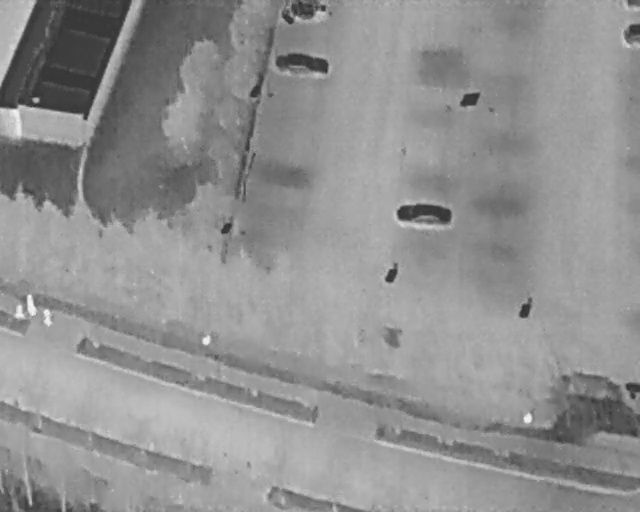Car: (552, 373, 635, 417), (275, 54, 329, 78), (397, 203, 452, 226), (284, 1, 332, 27), (622, 22, 640, 46), (625, 0, 638, 10)
Person: (26, 294, 36, 316), (15, 303, 25, 321), (43, 309, 52, 327)
